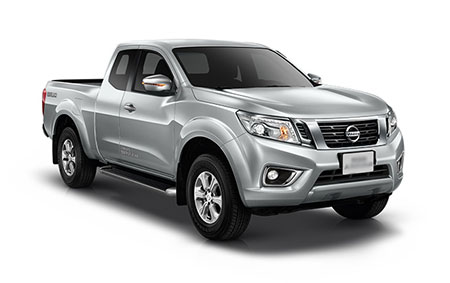pickup: (39, 36, 406, 245)
